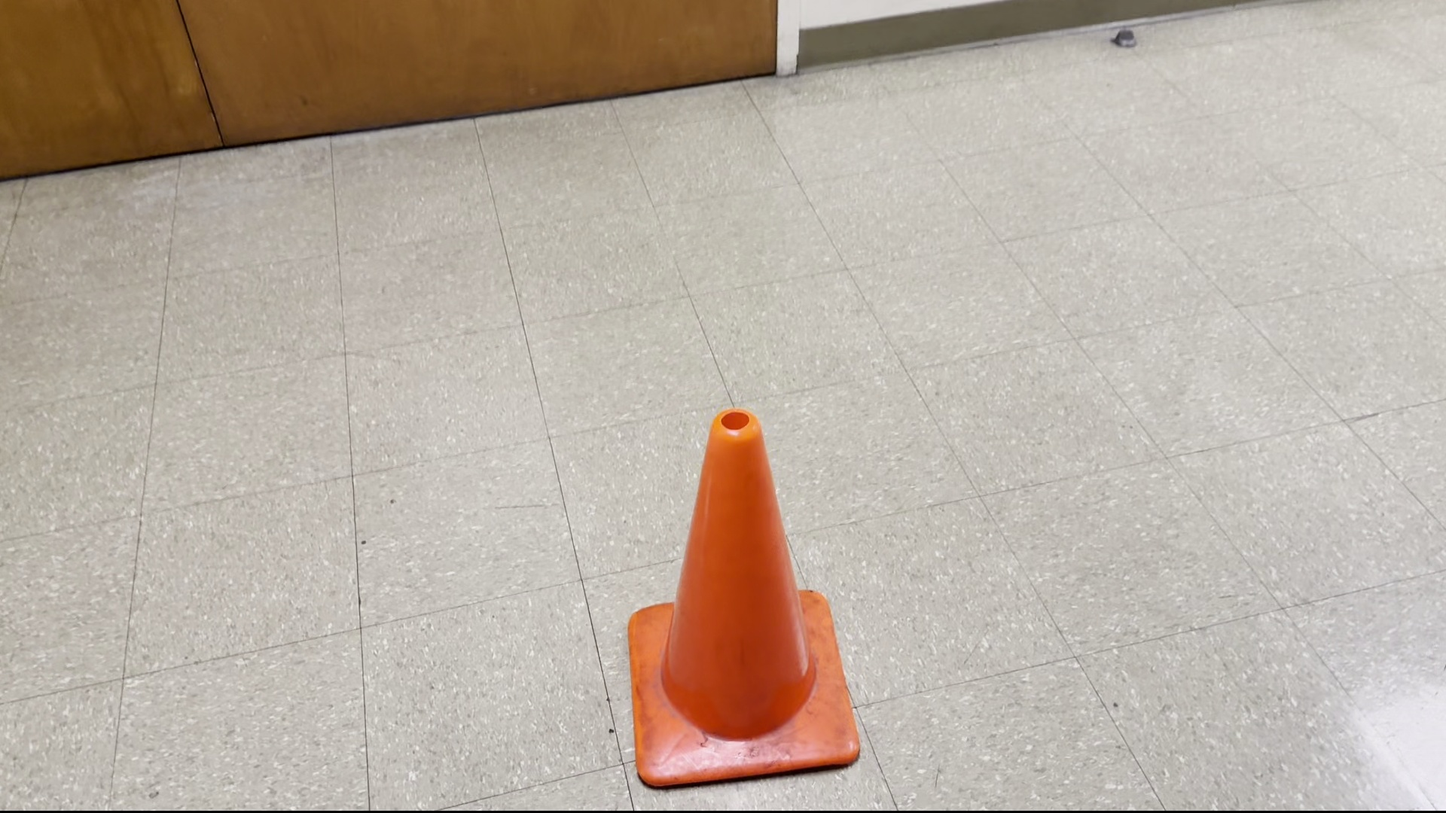traffic_cone: (627, 406, 860, 788)
